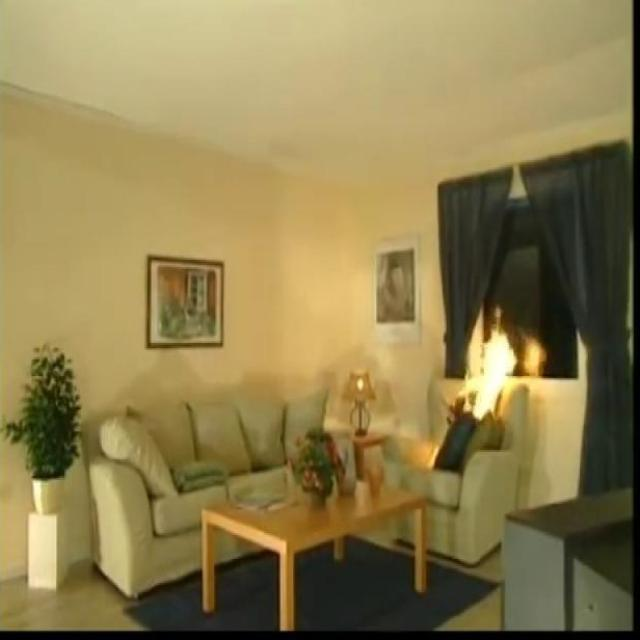smoke: (454, 306, 540, 421)
